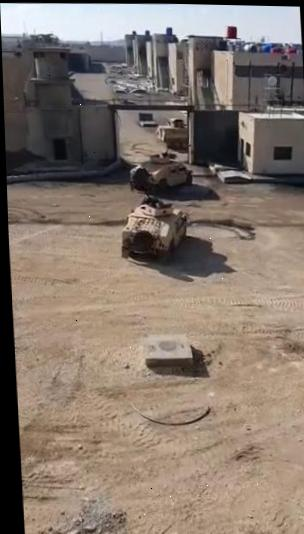armored_car: (118, 194, 190, 265), (126, 150, 194, 194)
tank: (154, 119, 192, 155)
